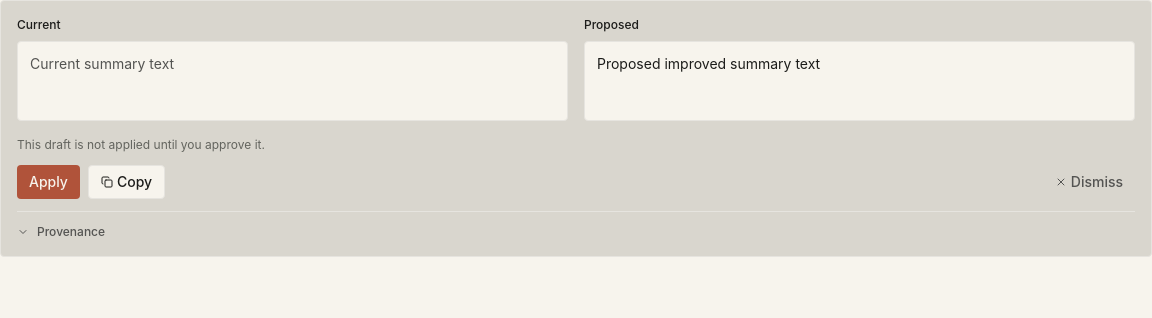
Scenario: SuggestionCard › provenance › shows template name when provided
The width and height of the screenshot is (1152, 318).
Click the button "Provenance".
click(61, 232)  # box [17,224,105,240]
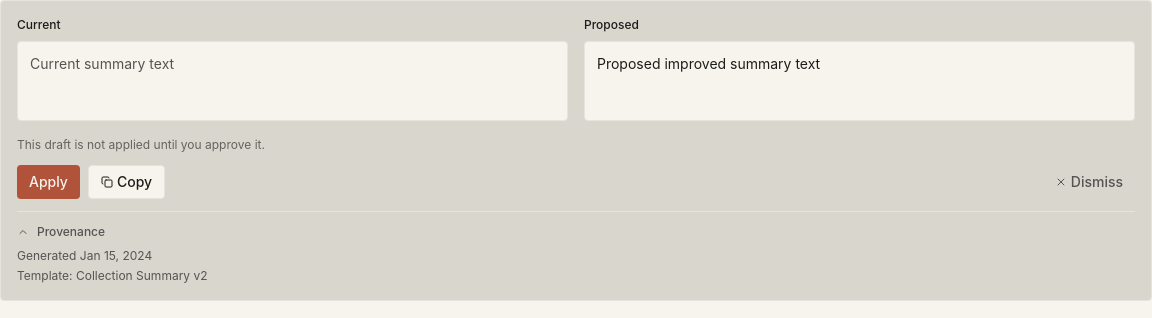
Expected: the text "Template: Collection Summary v2" is shown, [17,268,208,283]
